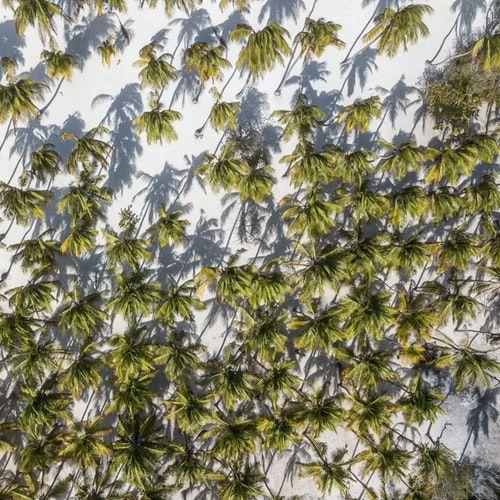coconut_tree: (238, 21, 295, 76), (174, 26, 231, 81), (198, 84, 255, 139), (62, 117, 119, 172), (20, 381, 77, 436), (113, 338, 170, 393), (204, 353, 261, 408), (248, 355, 305, 410), (391, 377, 448, 432), (442, 129, 499, 184), (384, 132, 441, 187), (121, 35, 178, 90), (291, 300, 348, 355), (91, 215, 148, 270), (62, 286, 119, 341), (3, 264, 60, 319), (371, 0, 428, 55), (278, 186, 335, 241), (197, 142, 254, 197), (142, 204, 199, 259), (109, 425, 166, 480), (280, 128, 337, 183), (203, 254, 260, 309), (133, 98, 190, 153), (0, 174, 56, 229), (0, 67, 56, 122)
